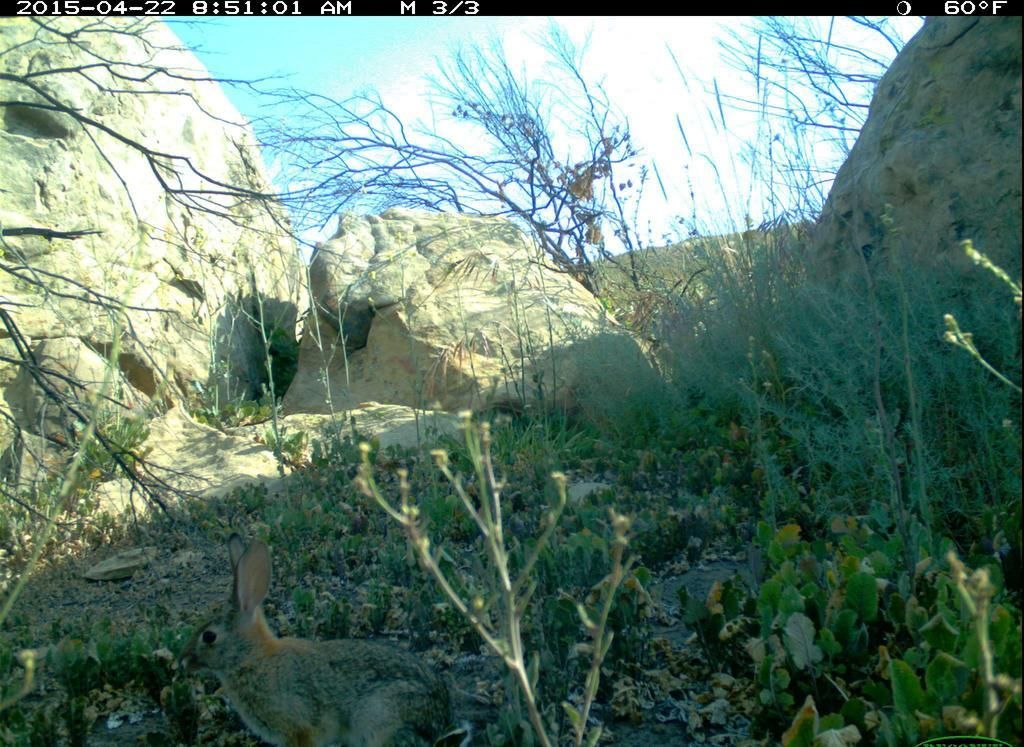rabbit: (171, 528, 473, 747)
